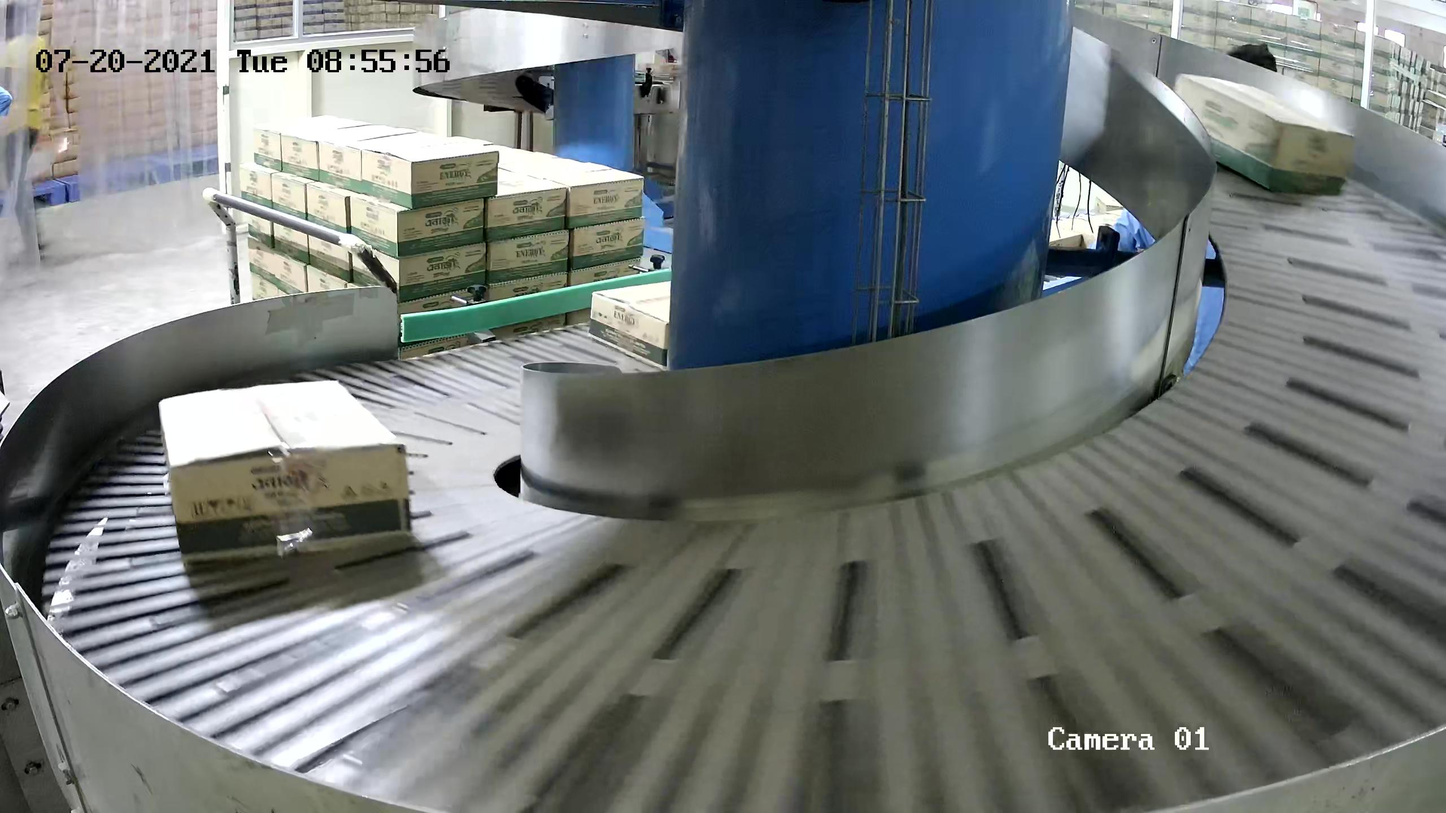Box: (158, 376, 416, 563), (1172, 72, 1355, 197), (587, 279, 672, 372)
